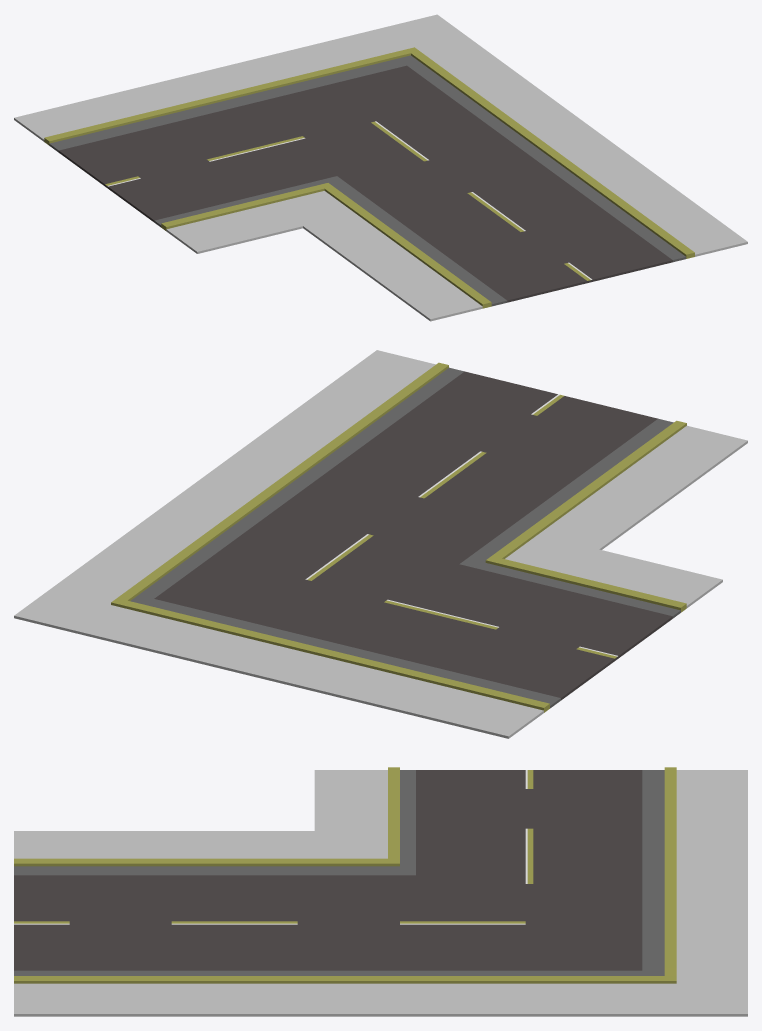
Rendered from Carretera_Esquina_1.fbx.
3 renders of one model, top to bottom at view 1: azimuth 30°, elevation 25°; view 2: azimuth 150°, elevation 25°; view 3: azimuth 270°, elevation 25°, orthographic. The views are drawn at different scales.
Parts seen in each view (by area): view 1: Carretera_Esquina_1; view 2: Carretera_Esquina_1; view 3: Carretera_Esquina_1.
Part boxes in pixels (x1,y1,x2,y2): Carretera_Esquina_1: (14,14,747,321); Carretera_Esquina_1: (14,350,747,738); Carretera_Esquina_1: (14,767,747,1016).
Size of the model in its own units: 48 by 0.4756 by 61.
